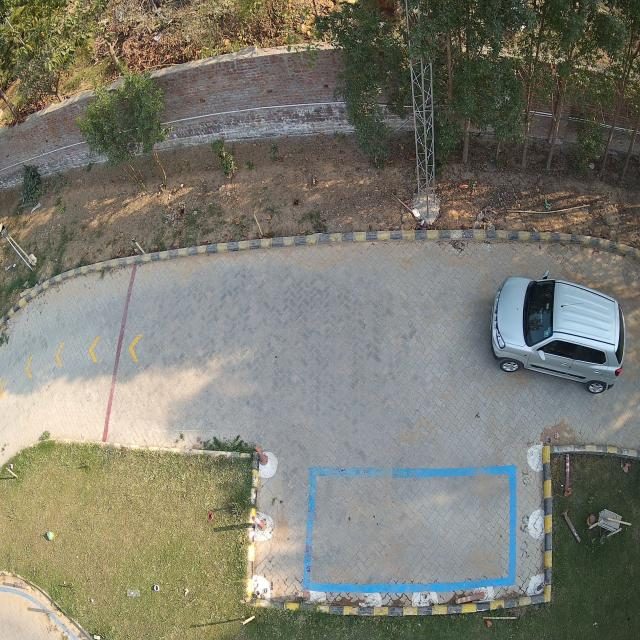car: (491, 277, 624, 388)
